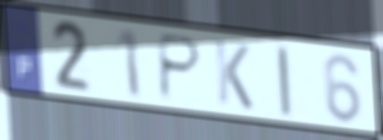1: (115, 27, 143, 100)
2: (50, 19, 93, 94)
6: (321, 51, 364, 125)
I: (273, 43, 295, 119)
K: (212, 37, 256, 113)
P: (156, 31, 205, 103)
